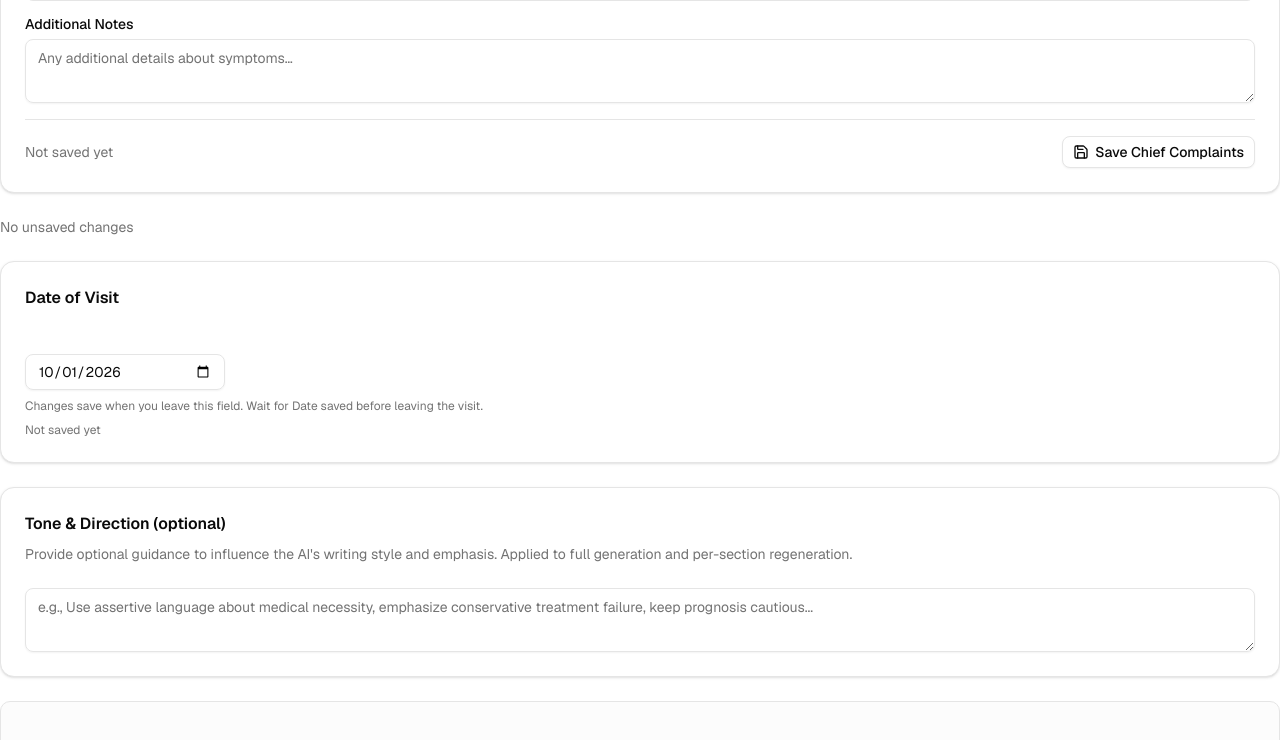
pain_evaluation_visit refuses Generate after the date is cleared
(page scrolled)
Clear the date field: (125, 372) top-left (25, 354), bottom-right (225, 390)
(page scrolled)
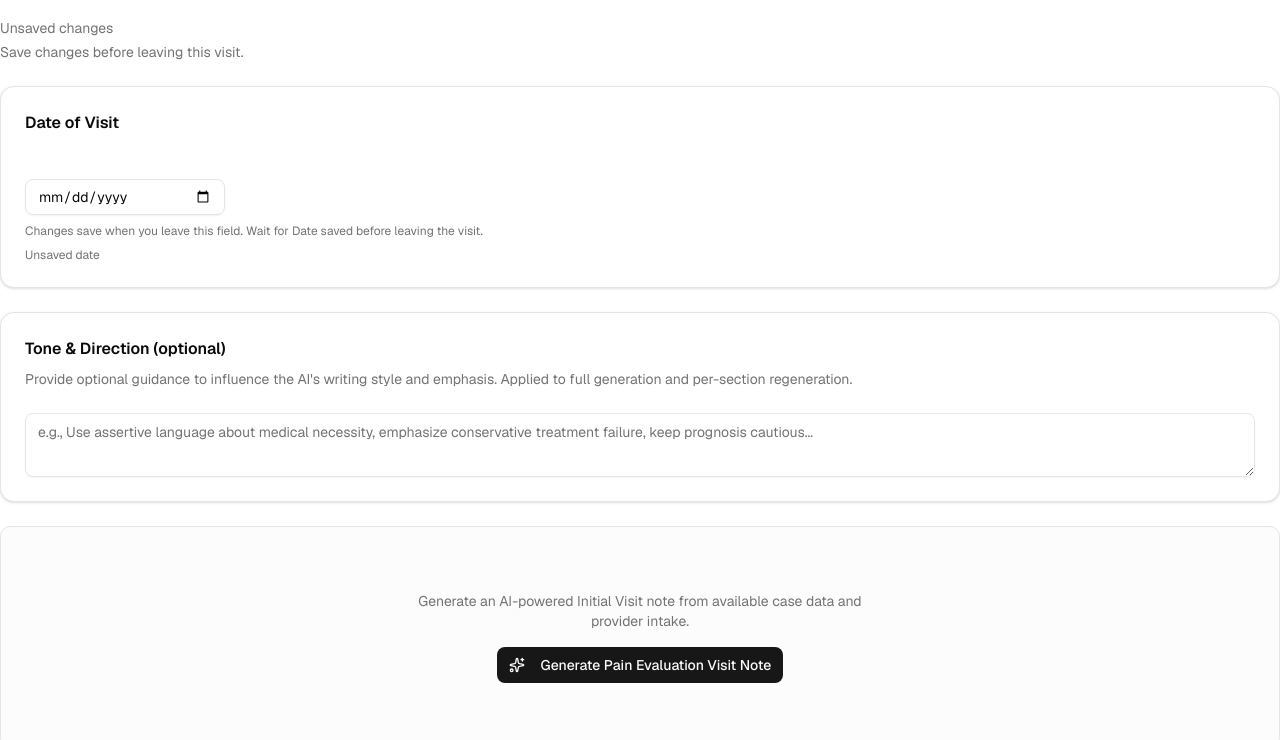
Click the button "Generate Pain Evaluation Visit Note": (640, 665) top-left (496, 647), bottom-right (783, 683)
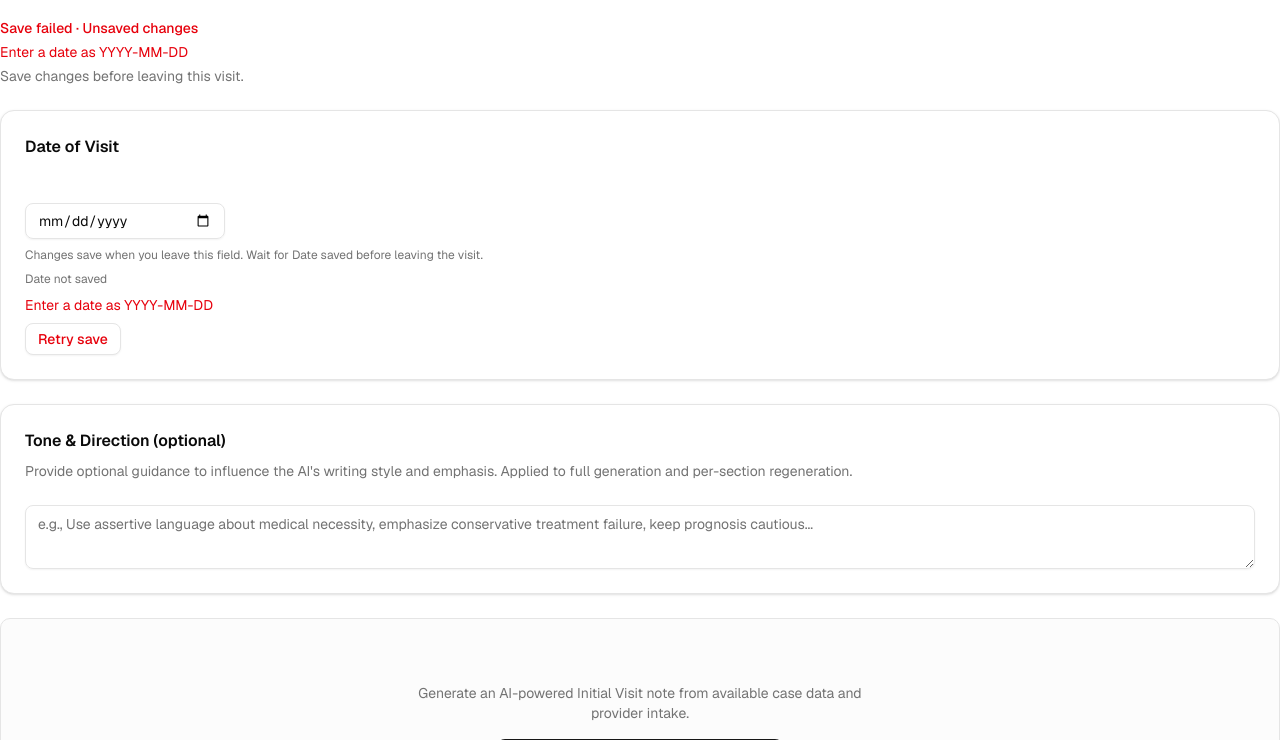
Expected: the text "Date not saved" is shown, top-left (25, 271), bottom-right (107, 287)
